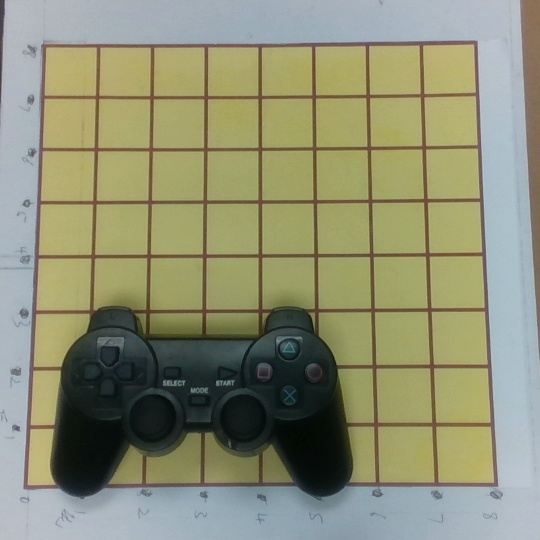remote: (50, 305, 354, 501)
